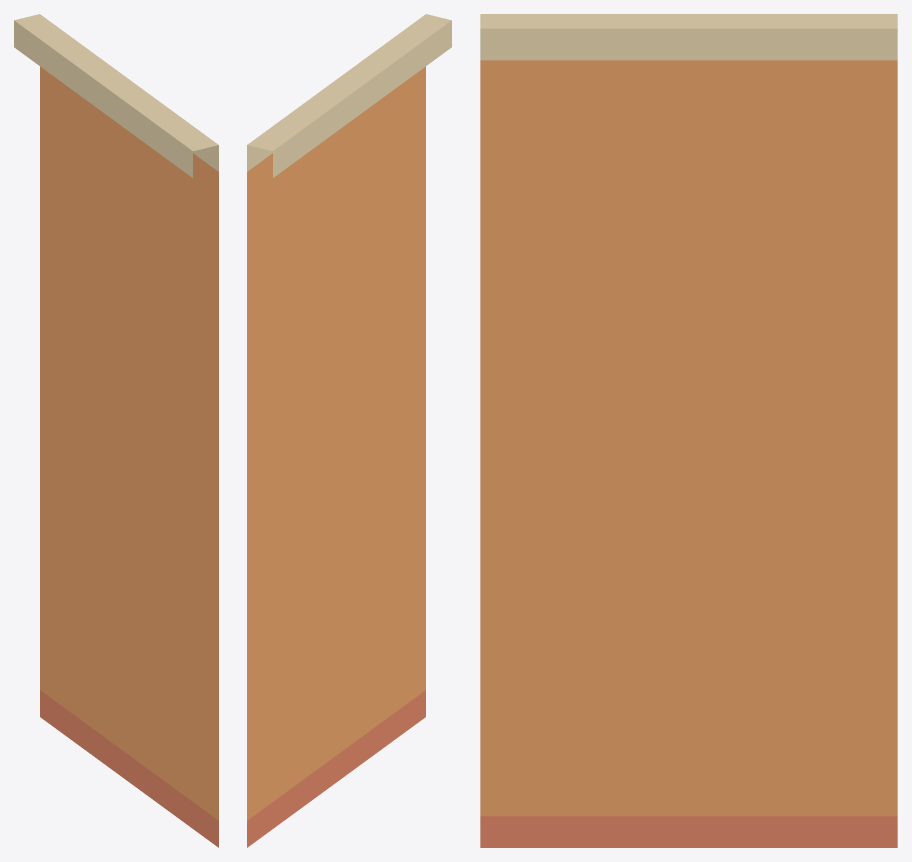
The model's file is apartment_wall.glb.
3 renders of one model, left to right at view 1: azimuth 30°, elevation 25°; view 2: azimuth 150°, elevation 25°; view 3: azimuth 270°, elevation 25°, orthographic. The views are drawn at different scales.
Parts seen in each view (by area): view 1: Cube; view 2: Cube; view 3: Cube.
Part boxes in pixels (x1=…): Cube: x1=14, y1=14, x2=218, y2=847; Cube: x1=247, y1=14, x2=451, y2=847; Cube: x1=480, y1=14, x2=897, y2=847.
Size of the model in its own units: 0.5 by 13 by 6.
1 material, 1 textured.
